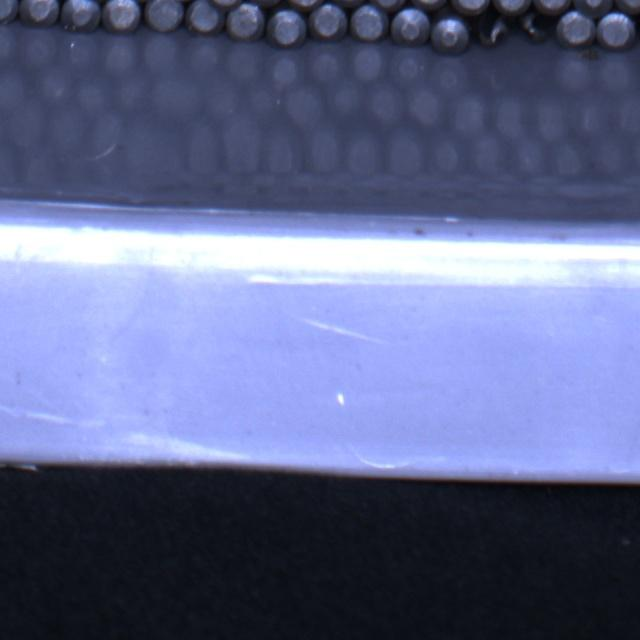tool: (391, 6, 431, 45), (431, 15, 470, 55), (595, 10, 635, 49), (308, 1, 347, 40), (266, 8, 306, 46), (226, 1, 265, 39), (555, 11, 595, 48), (350, 2, 389, 39), (185, 0, 225, 35), (102, 0, 141, 32), (62, 0, 102, 31), (143, 0, 184, 30), (19, 0, 61, 28), (571, 0, 612, 16), (449, 0, 492, 14), (490, 0, 532, 14), (532, 0, 573, 14), (408, 0, 452, 10), (368, 0, 408, 10), (613, 0, 640, 14), (283, 0, 327, 8)
tool_b: (474, 15, 511, 49), (519, 14, 553, 44)
